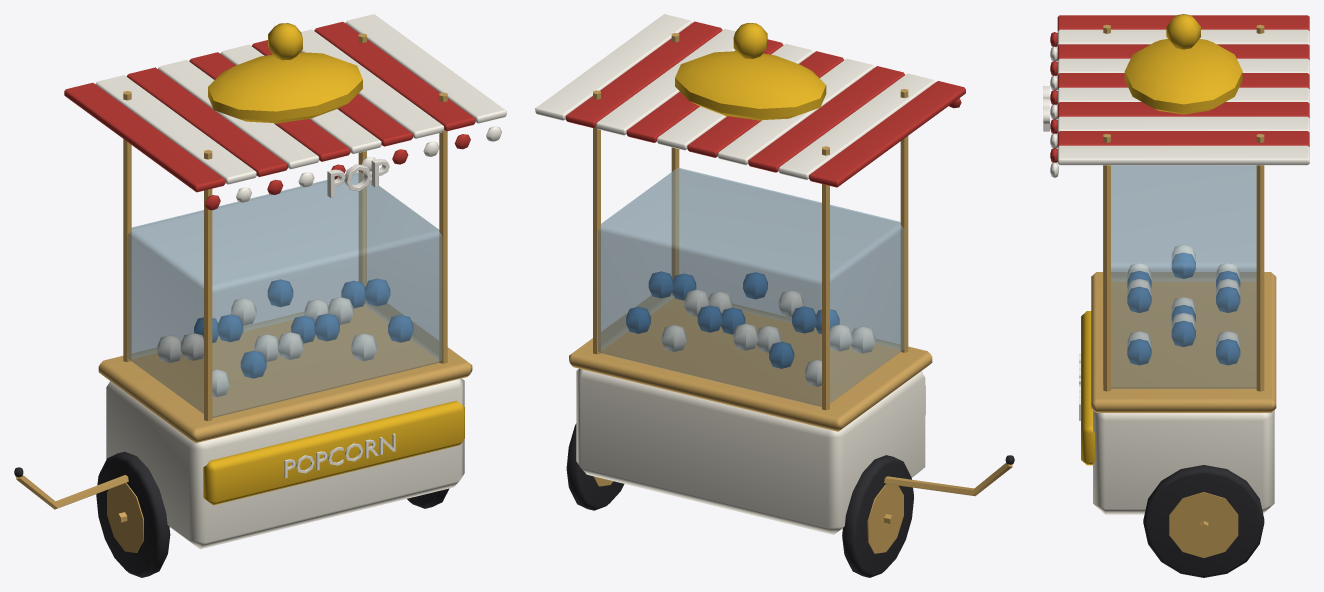
The model's file is popcorn_cart.glb.
3 renders of one model, left to right at view 1: azimuth 30°, elevation 25°; view 2: azimuth 150°, elevation 25°; view 3: azimuth 270°, elevation 25°, orthographic. The views are drawn at different scales.
Visible parts, largest first — view 1: popcorn_cart; view 2: popcorn_cart; view 3: popcorn_cart.
Part boxes in pixels (x1,y1,x2,y2): popcorn_cart: [14, 14, 506, 577]; popcorn_cart: [535, 14, 1014, 577]; popcorn_cart: [1043, 14, 1309, 577].
Bounding box in the file's own units: 2.33 × 2.71 × 1.32.
